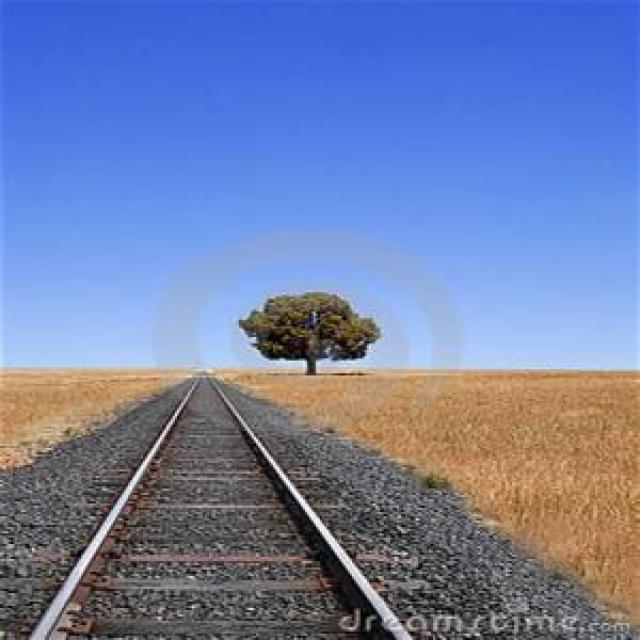rail: (6, 373, 457, 640)
